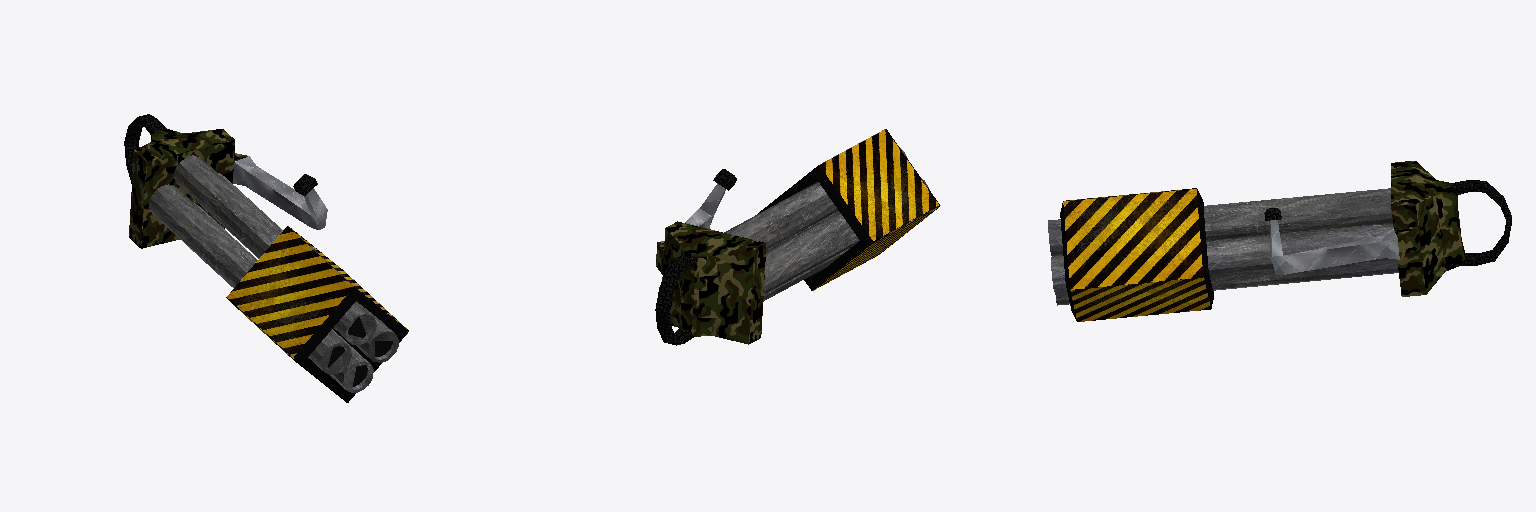
3 views of the same model, side by side, from view 1: azimuth 30°, elevation 25°; view 2: azimuth 150°, elevation 25°; view 3: azimuth 270°, elevation 25° (orthographic).
Visible parts, largest first — view 1: Cylinder.001, Cylinder.000_Cylinder.004, Cube; view 2: Cube, Cylinder.000_Cylinder.004, Cylinder.001; view 3: Cylinder.000_Cylinder.004, Cylinder.001, Cube.
Part boxes in pixels (x1,y1,x2,y2): Cylinder.001: (144,155,398,392); Cylinder.000_Cylinder.004: (226,226,408,402); Cube: (124,114,327,248); Cube: (655,169,766,345); Cylinder.000_Cylinder.004: (758,129,940,290); Cylinder.001: (692,148,929,301); Cylinder.000_Cylinder.004: (1060,188,1213,321); Cylinder.001: (1048,188,1408,305); Cube: (1264,161,1511,296).
Size of the model in its own units: 1.75 by 1.75 by 5.17.
3 materials, 1 textured.